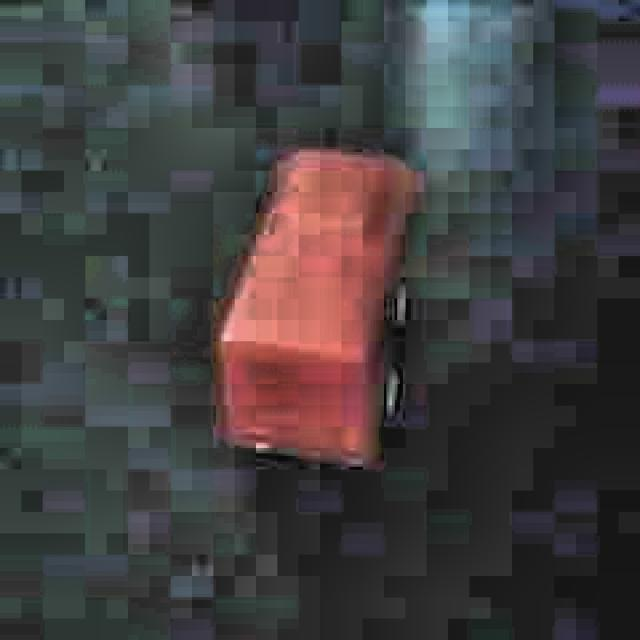bus: (204, 140, 428, 478)
